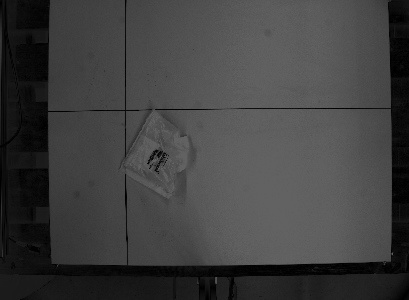t3: (115, 105, 195, 201)
